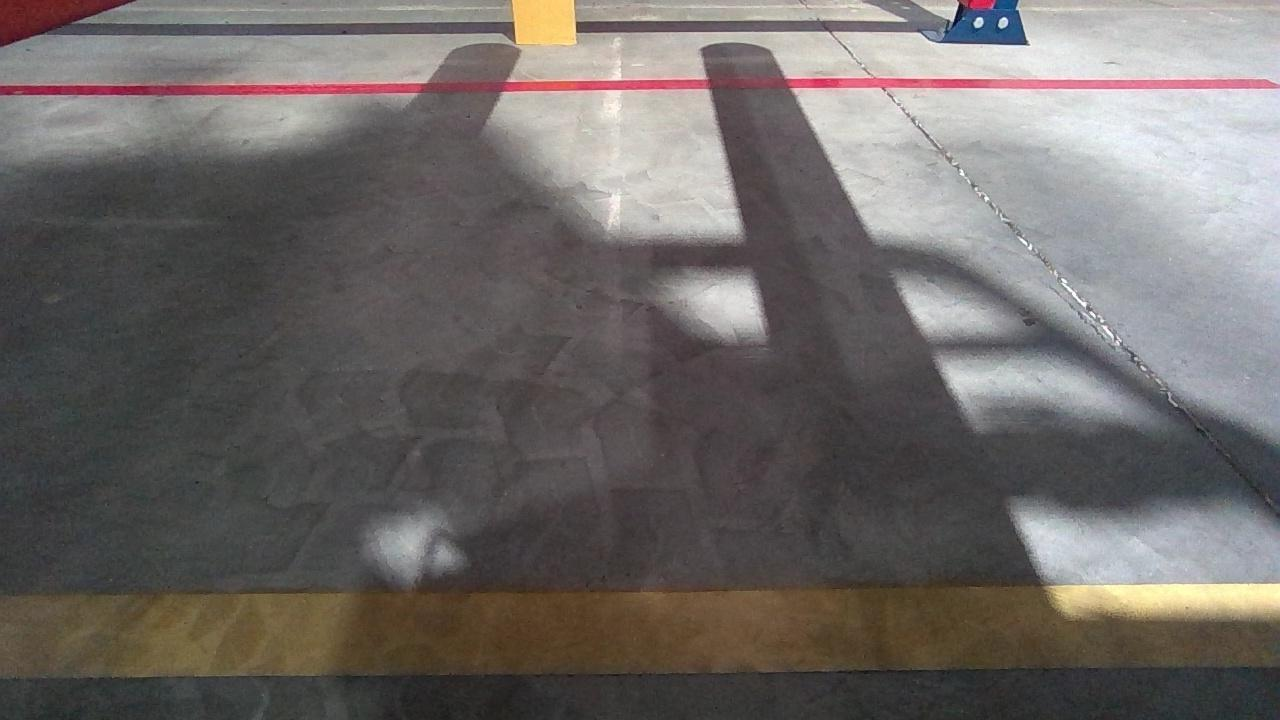red_line: (2, 81, 1280, 92)
yellow_line: (4, 592, 1280, 676)
